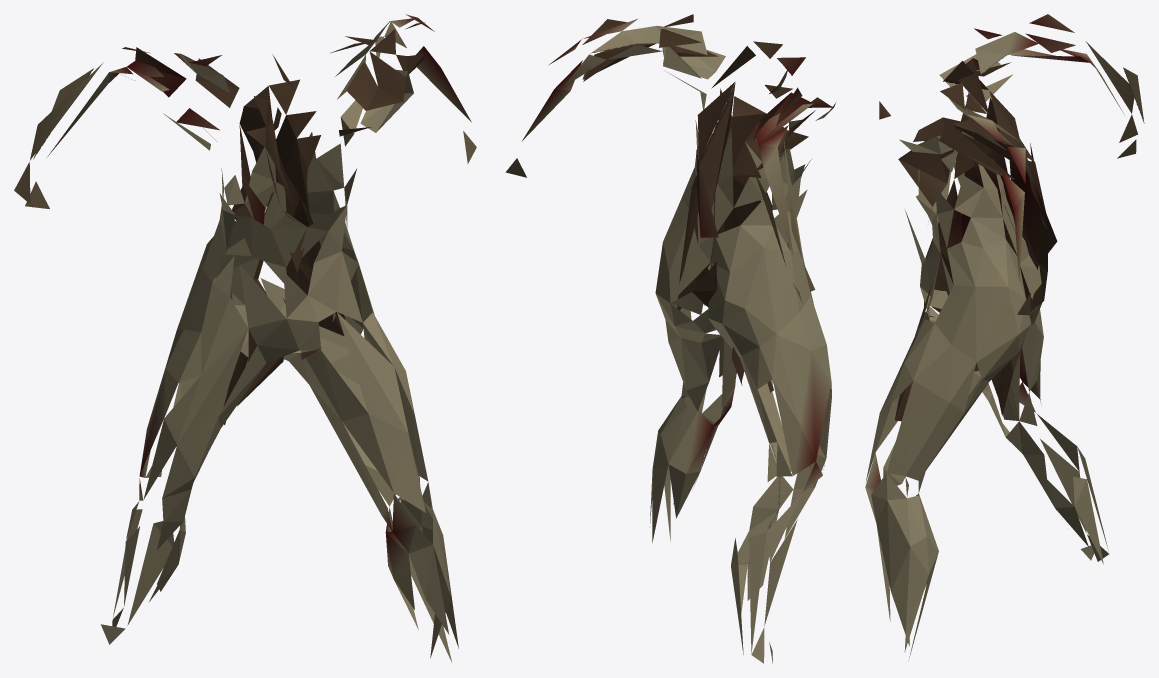
The model's file is zombie_far.glb.
3 views of the same model, side by side, from view 1: azimuth 30°, elevation 25°; view 2: azimuth 150°, elevation 25°; view 3: azimuth 270°, elevation 25° (orthographic). The views are drawn at different scales.
Parts seen in each view (by area): view 1: Body; view 2: Body; view 3: Body.
Boxes of the visible parts, left/top/right/bottom form: Body: left=14, top=14, right=476, bottom=662; Body: left=505, top=14, right=835, bottom=663; Body: left=865, top=14, right=1144, bottom=660.
Size of the model in its own units: 0.8924 by 1.33 by 0.6121.
2 materials, 2 textured.
